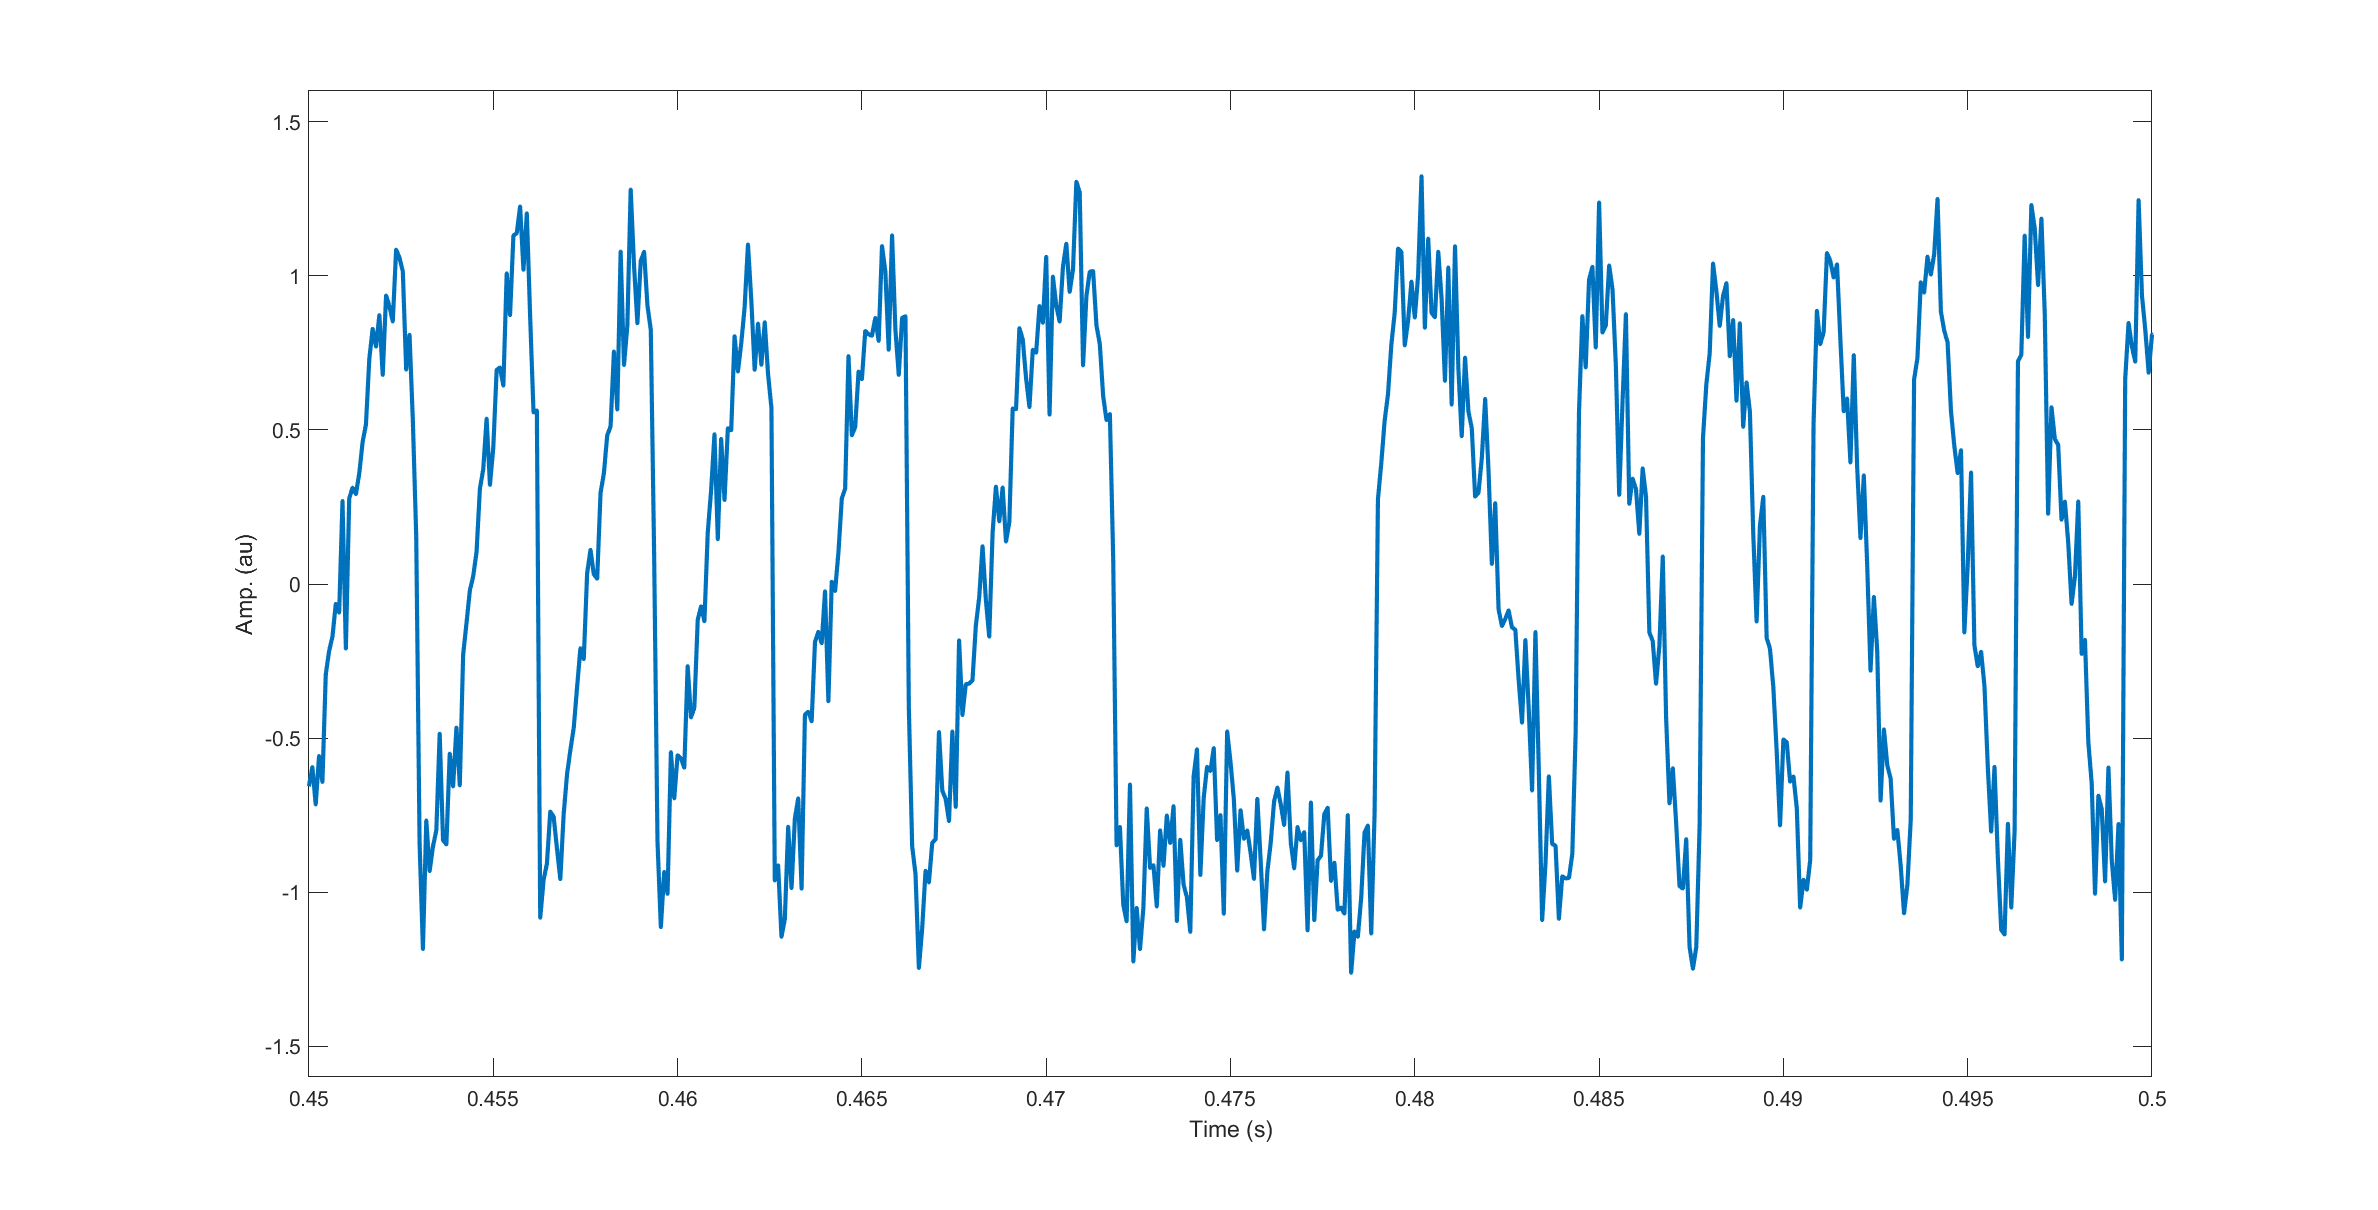negative_fringe: (1363, 157, 1552, 937), (1563, 193, 1687, 891), (1687, 248, 1799, 965), (2008, 188, 2103, 941), (1900, 188, 2000, 897), (1802, 238, 1889, 894)
positive_fringe: (931, 171, 1136, 977), (792, 225, 921, 897), (554, 174, 664, 931), (670, 228, 785, 943), (313, 236, 427, 948), (438, 194, 549, 920)
